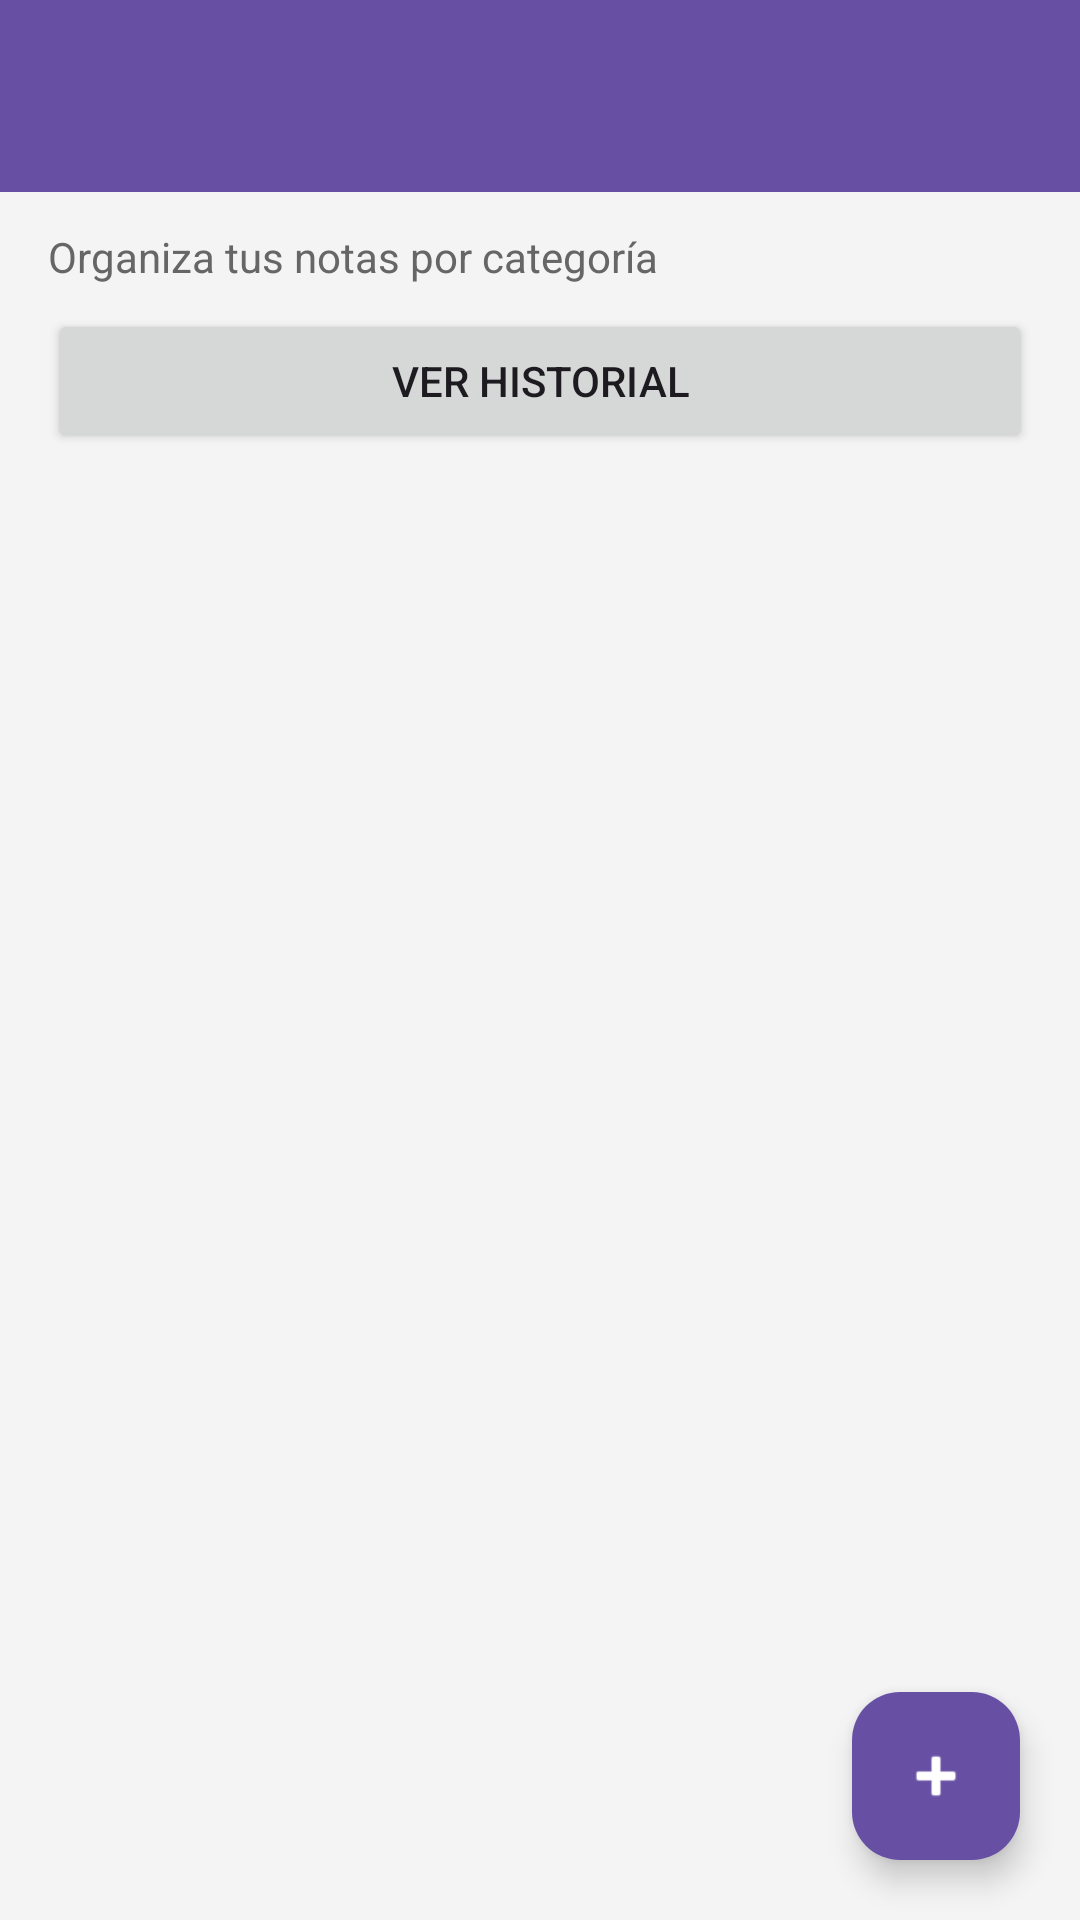

Icons on this 1080 x 1920 Android screen, each with its box as (x1=x1, y1=y1, x2=x2, y2=y2):
Agregar categoría: (x1=852, y1=1692, x2=1020, y2=1860)
